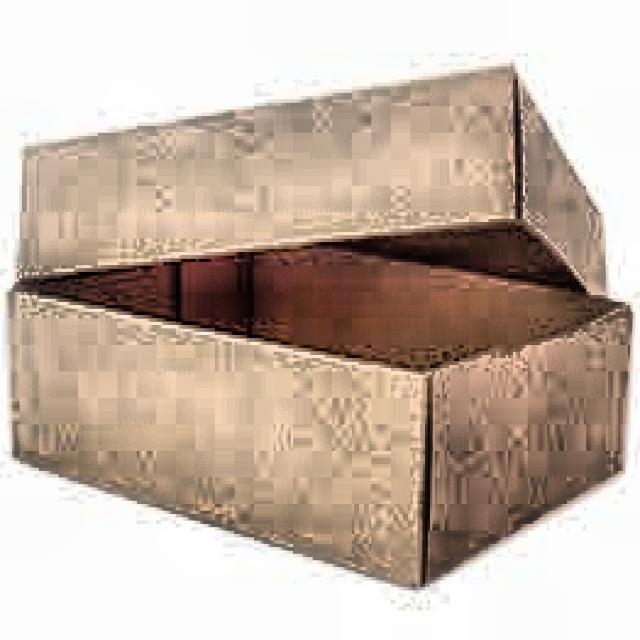cardboard: (5, 53, 633, 587)
